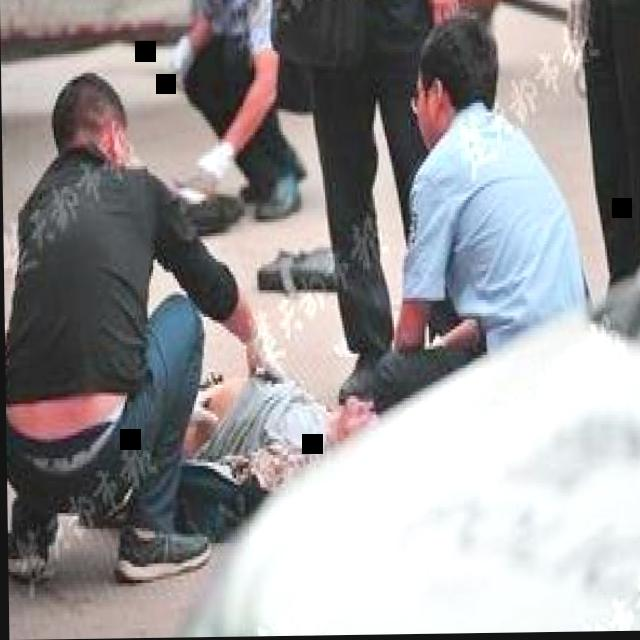Fall-Detected: (108, 309, 380, 538)
